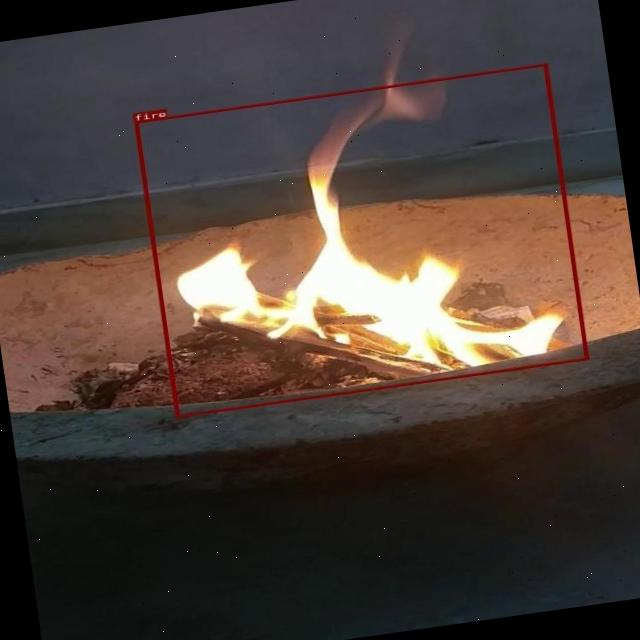fire: (134, 63, 588, 418)
